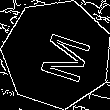M_W: (26, 24, 88, 84)
